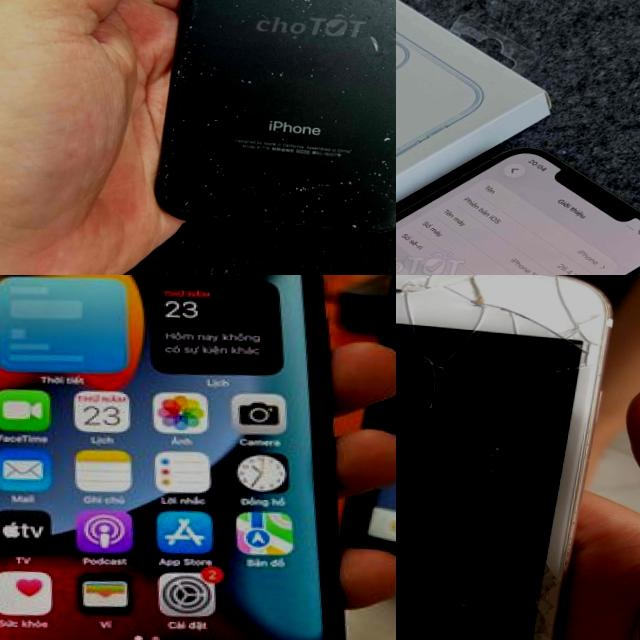physical_damage: (406, 275, 489, 298), (473, 561, 556, 580), (540, 351, 592, 378), (532, 579, 555, 639), (469, 440, 506, 465), (396, 292, 419, 323), (532, 318, 566, 338), (412, 351, 443, 370), (549, 275, 568, 305), (568, 310, 606, 325), (568, 324, 596, 344), (418, 395, 444, 416), (470, 301, 506, 315), (448, 590, 466, 608), (466, 314, 486, 330), (507, 317, 521, 333), (510, 309, 530, 319), (402, 538, 422, 548), (511, 369, 530, 376), (452, 367, 470, 374), (484, 371, 502, 376), (396, 523, 399, 535)
scratch: (157, 0, 396, 234)
